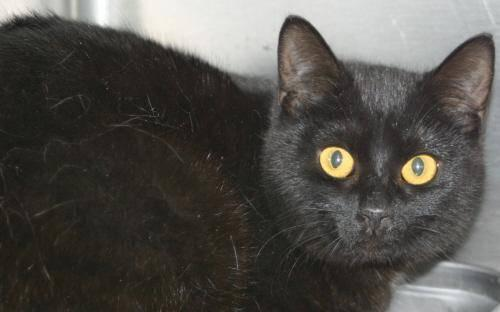cat: (0, 15, 494, 311)
